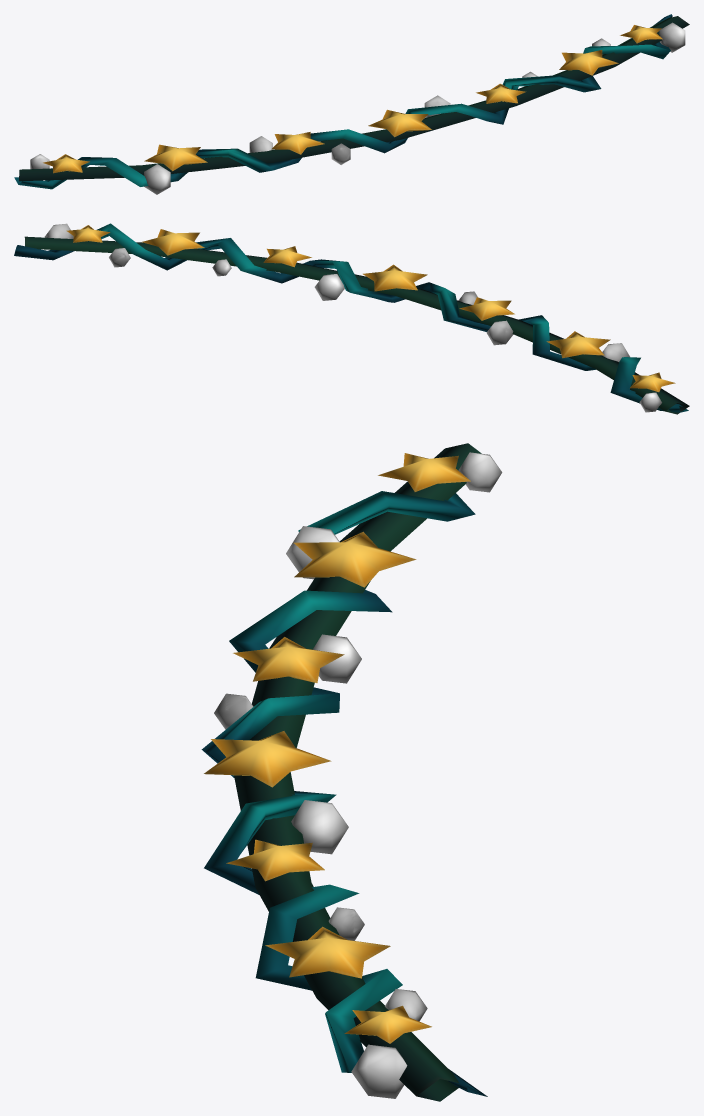
File: Garland_B.fbx
3 views of the same model, one above another, from view 1: azimuth 30°, elevation 25°; view 2: azimuth 150°, elevation 25°; view 3: azimuth 270°, elevation 25° (orthographic). The views are drawn at different scales.
Visible parts, largest first — view 1: Garland_B; view 2: Garland_B; view 3: Garland_B.
Boxes of the visible parts, left/top/right/bottom form: Garland_B: left=14, top=14, right=689, bottom=194; Garland_B: left=14, top=223, right=689, bottom=414; Garland_B: left=201, top=443, right=502, bottom=1101.
Size of the model in its own units: 73.77 by 3.35 by 14.47.
